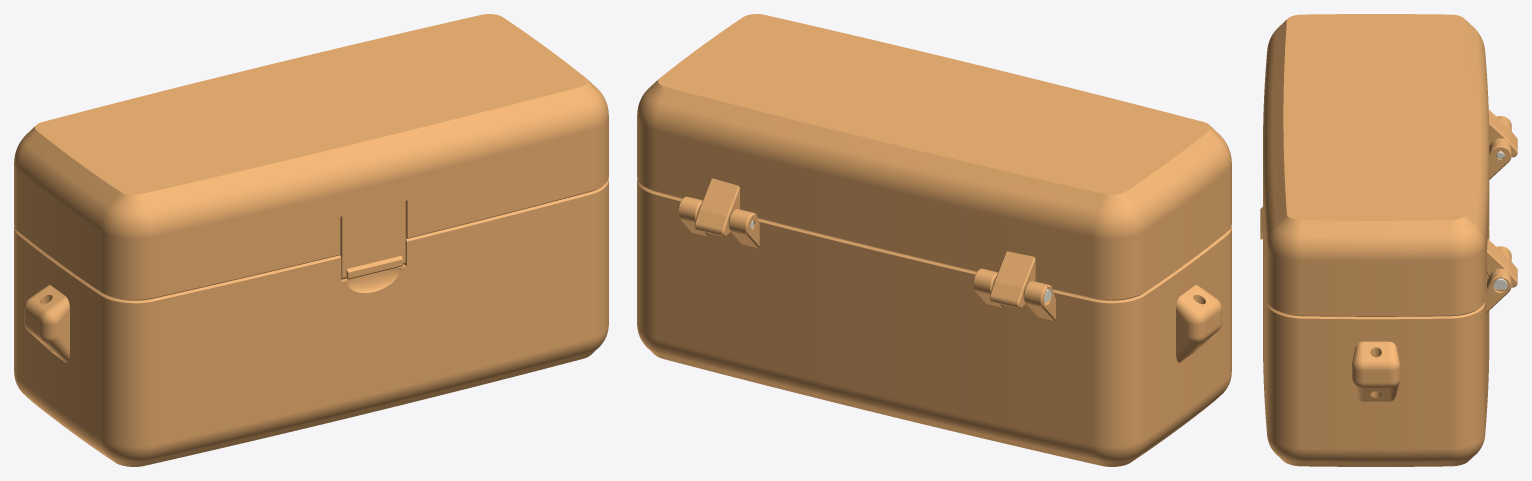
The model's file is kartenbox.glb.
3 views of the same model, side by side, from view 1: azimuth 30°, elevation 25°; view 2: azimuth 150°, elevation 25°; view 3: azimuth 270°, elevation 25° (orthographic). The views are drawn at different scales.
Parts seen in each view (by area): view 1: deckel, basis; view 2: deckel, basis; view 3: deckel, basis.
Part boxes in pixels (x1=…): deckel: x1=14, y1=14, x2=608, y2=300; basis: x1=14, y1=179, x2=608, y2=466; deckel: x1=637, y1=14, x2=1231, y2=308; basis: x1=637, y1=179, x2=1231, y2=466; deckel: x1=1260, y1=14, x2=1517, y2=316; basis: x1=1263, y1=116, x2=1511, y2=466.
Bounding box in the file's own units: 264 × 122 × 117.
